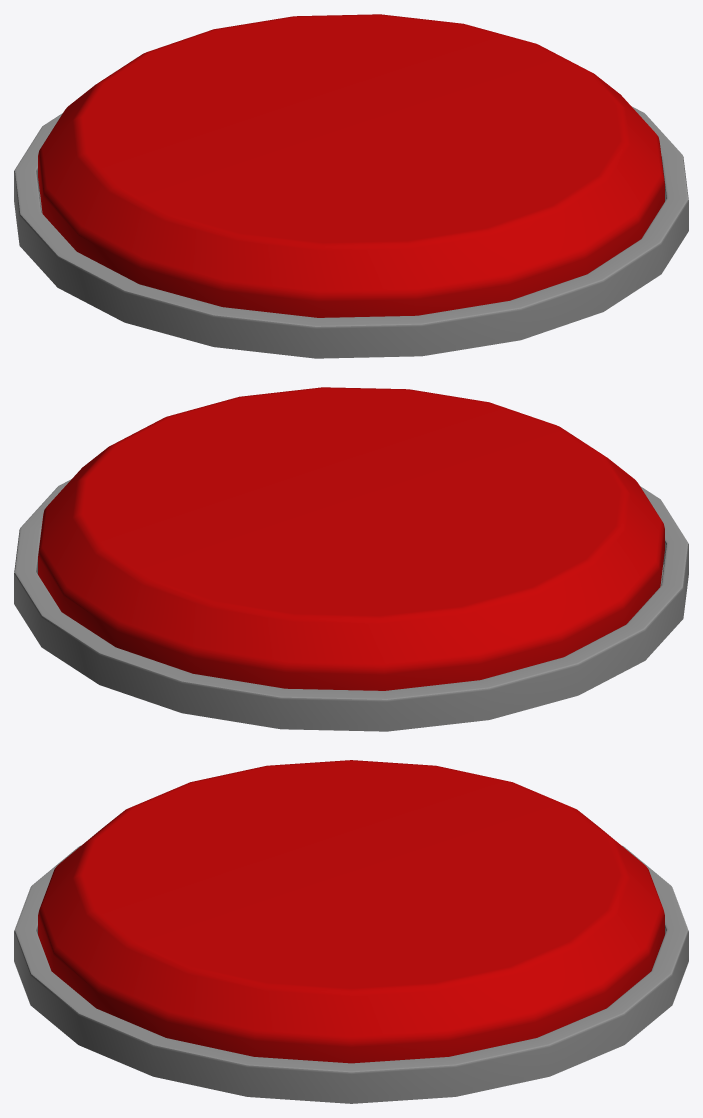
The model's file is BigButtonOfDeath.fbx.
3 views of the same model, one above another, from view 1: azimuth 30°, elevation 25°; view 2: azimuth 150°, elevation 25°; view 3: azimuth 270°, elevation 25° (orthographic).
Parts seen in each view (by area): view 1: ButtonTopRed, ButtonBottomRed; view 2: ButtonTopRed, ButtonBottomRed; view 3: ButtonTopRed, ButtonBottomRed.
Boxes of the visible parts, x1,y1,x2,y2 form: ButtonTopRed: (38,14,664,317); ButtonBottomRed: (14,106,688,358); ButtonTopRed: (38,387,664,690); ButtonBottomRed: (14,479,688,731); ButtonTopRed: (38,760,664,1063); ButtonBottomRed: (14,845,688,1103).
Bounding box in the file's own units: 11.11 × 1.57 × 11.11.
